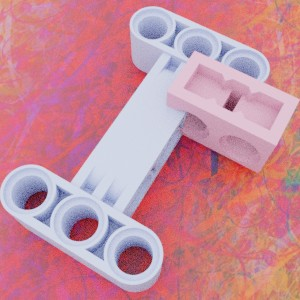lego: (0, 6, 269, 292), (164, 50, 299, 173)
